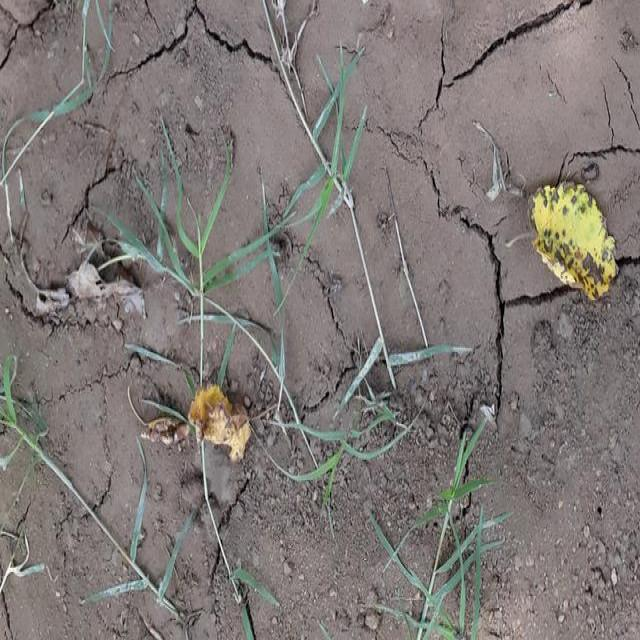weed: (115, 150, 384, 335)
